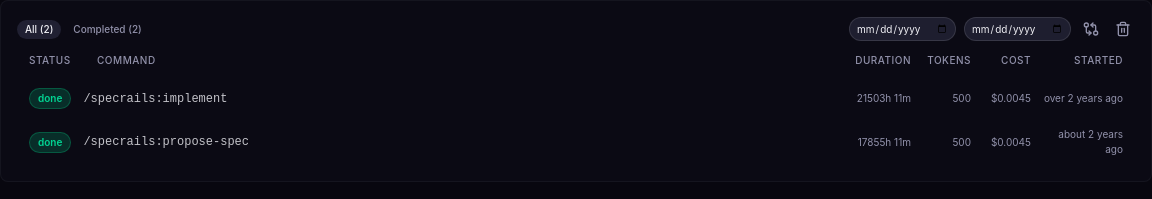
RecentJobs - extended coverage › date range filter › filters jobs by dateFrom
The width and height of the screenshot is (1152, 199).
Type "2024-05-01" into the date field titled "From date" at (902, 29), box x1=849 y1=17 x2=956 y2=41
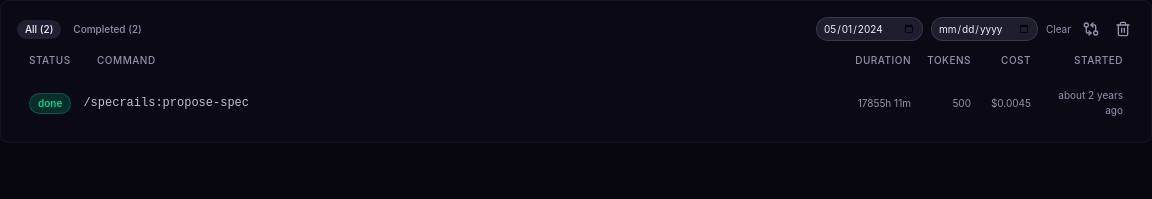
Expected: the text "/specrails:propose-spec" is shown, x1=83 y1=95 x2=249 y2=111
Result: the button "/specrails:implement" is gone
